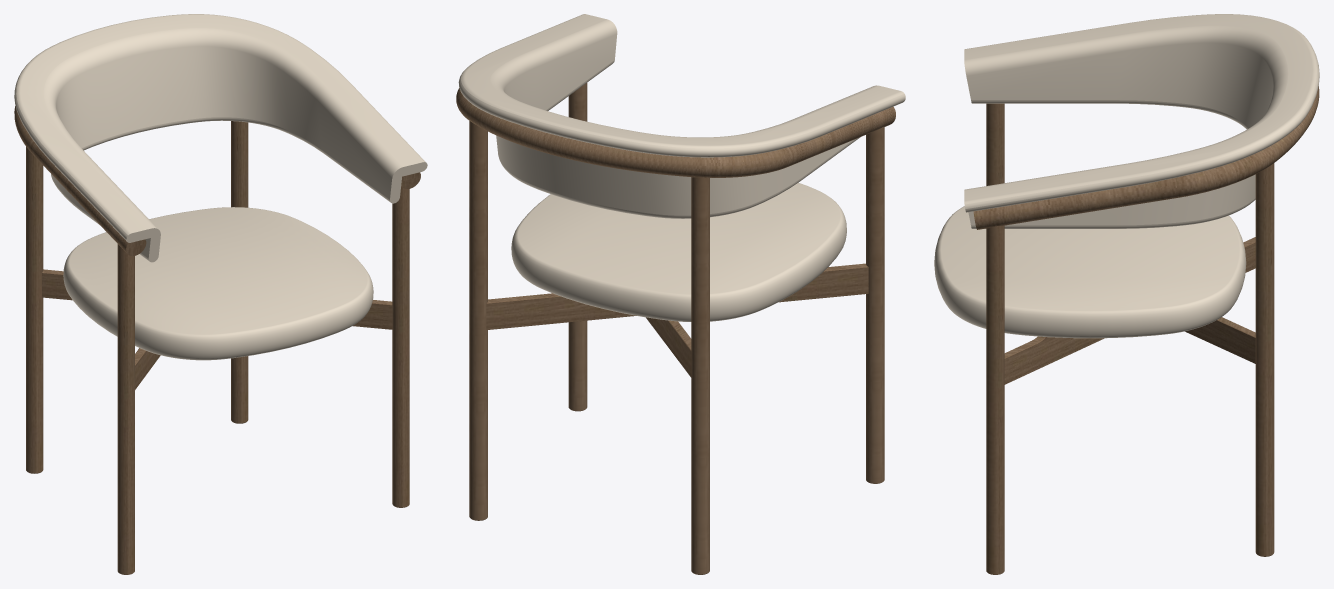
The model's file is mestre-cadeira.glb.
The picture shows the model from 3 angles, left to right: view 1: azimuth 30°, elevation 25°; view 2: azimuth 150°, elevation 25°; view 3: azimuth 270°, elevation 25°; orthographic projection. The views are drawn at different scales.
Parts seen in each view (by area): view 1: Geom3D (×7), Geom3D_Componente#46, Geom3D_D=0,04 m; view 2: Geom3D (×7), Geom3D_Componente#46, Geom3D_D=0,04 m; view 3: Geom3D (×6), Geom3D_Componente#46, Geom3D_D=0,04 m.
Part boxes in pixels (x1=…): Geom3D (×7): x1=14, y1=14, x2=427, y2=574; Geom3D_Componente#46: x1=63, y1=207, x2=373, y2=360; Geom3D_D=0,04 m: x1=14, y1=106, x2=420, y2=255; Geom3D (×7): x1=458, y1=14, x2=905, y2=574; Geom3D_Componente#46: x1=511, y1=182, x2=846, y2=321; Geom3D_D=0,04 m: x1=456, y1=88, x2=895, y2=177; Geom3D (×6): x1=964, y1=14, x2=1319, y2=574; Geom3D_Componente#46: x1=934, y1=206, x2=1246, y2=338; Geom3D_D=0,04 m: x1=973, y1=86, x2=1319, y2=229.
Size of the model in its own units: 0.6044 by 0.7739 by 0.6291.
2 materials, 1 textured.
